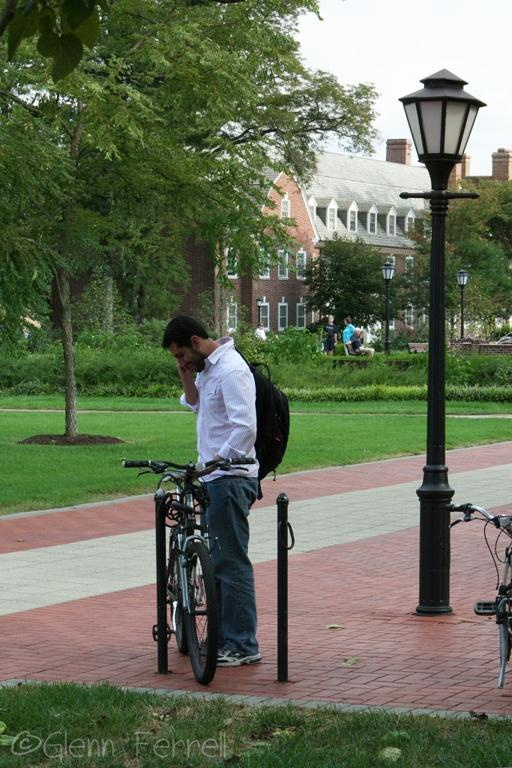non-vehicle: (121, 457, 257, 687), (441, 502, 511, 686)
